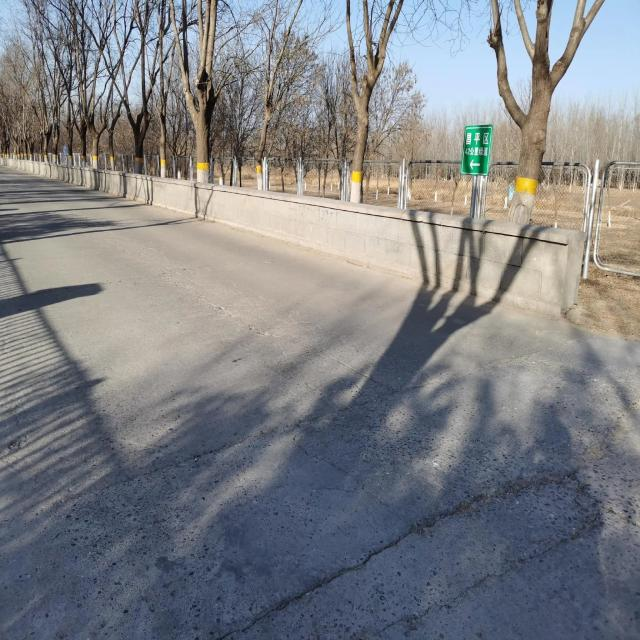Pothole: (222, 455, 630, 637)
